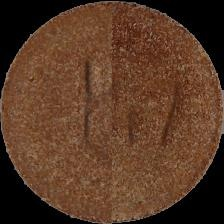54868-5935: (0, 0, 224, 224)
